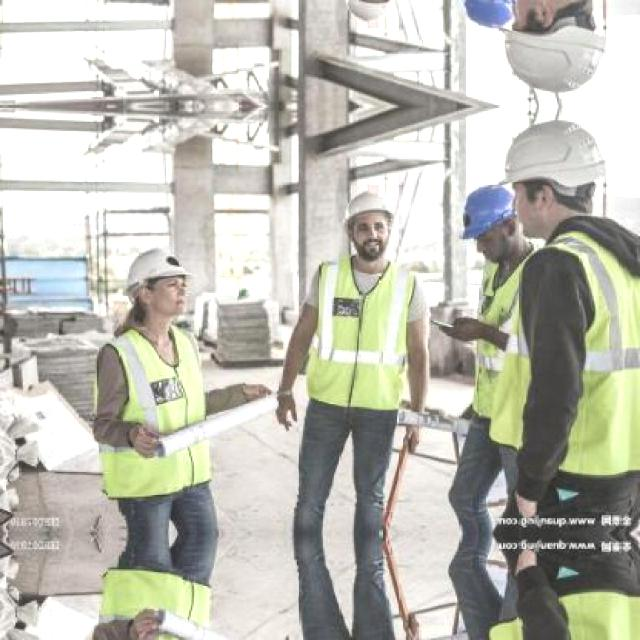face_nomask: (354, 217, 390, 256), (162, 279, 192, 308)
hand_noglove: (437, 311, 483, 347), (128, 421, 165, 458), (272, 392, 302, 433), (399, 420, 425, 455), (242, 381, 273, 406)
head_nohelmet: (495, 114, 609, 199), (458, 180, 516, 242), (120, 246, 195, 293), (341, 189, 395, 223)
person: (483, 111, 640, 563), (276, 192, 444, 563), (88, 240, 224, 595)
vest: (490, 231, 640, 472), (99, 323, 210, 503), (305, 258, 418, 408)
